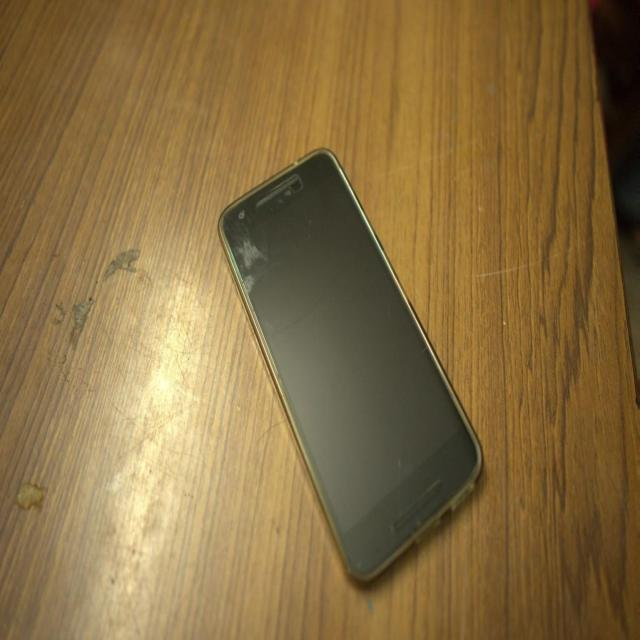Phone: (218, 148, 484, 590)
